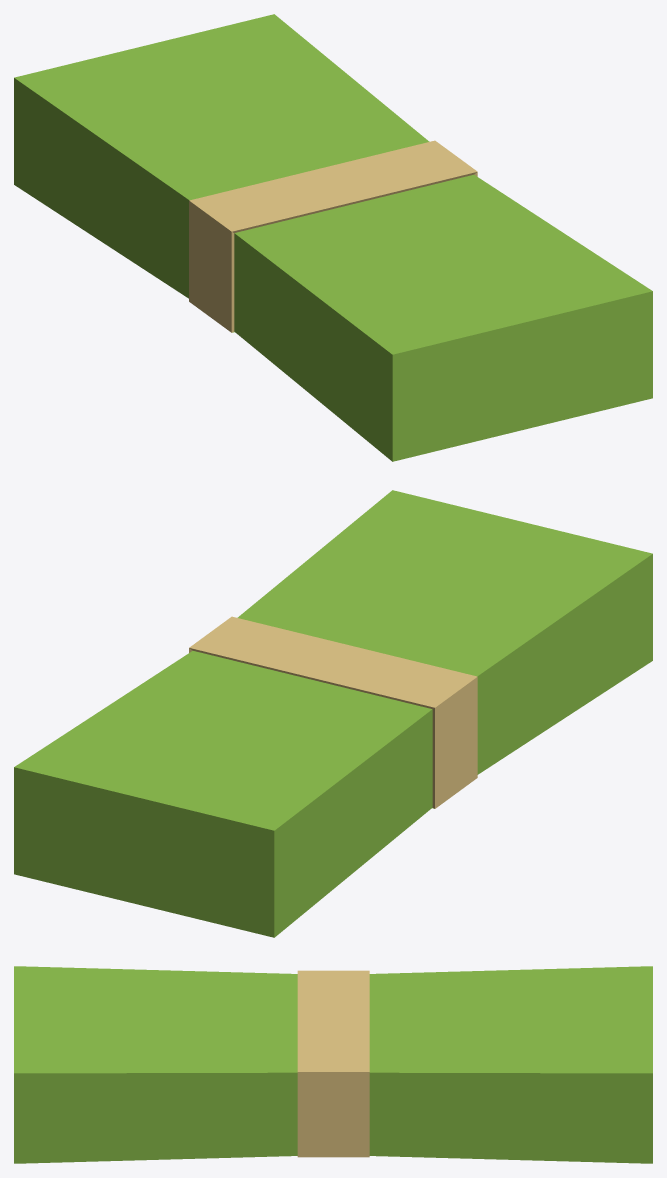
Rendered from Money.fbx.
3 renders of one model, top to bottom at view 1: azimuth 30°, elevation 25°; view 2: azimuth 150°, elevation 25°; view 3: azimuth 270°, elevation 25°, orthographic. The views are drawn at different scales.
Parts seen in each view (by area): view 1: Cube.354; view 2: Cube.354; view 3: Cube.354.
Part boxes in pixels (box(x1,y1,x2,y2)): Cube.354: box(14, 14, 652, 461); Cube.354: box(14, 490, 652, 937); Cube.354: box(14, 966, 652, 1163).
Size of the model in its own units: 24.53 by 9.64 by 61.76.
